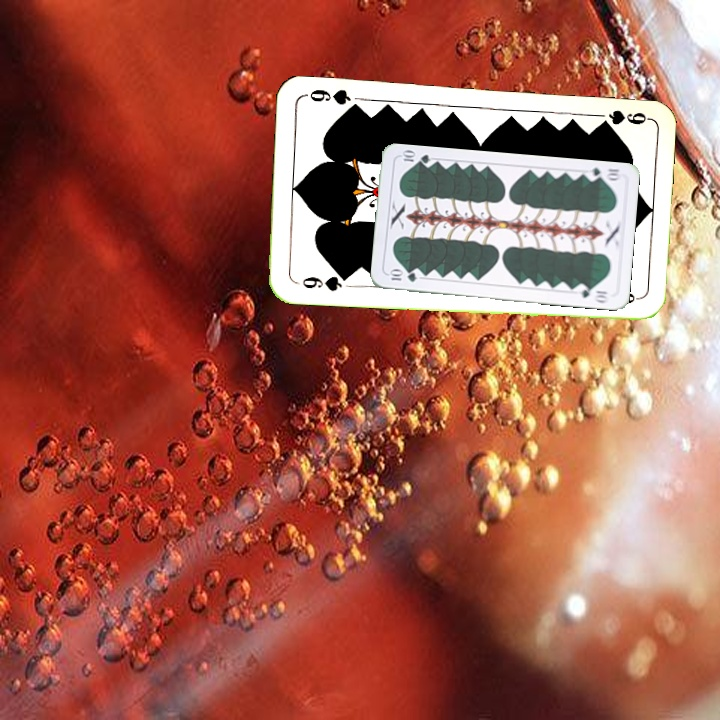G10: (582, 164, 623, 184), (385, 267, 420, 284)
G9: (292, 271, 352, 294), (605, 106, 650, 127)
